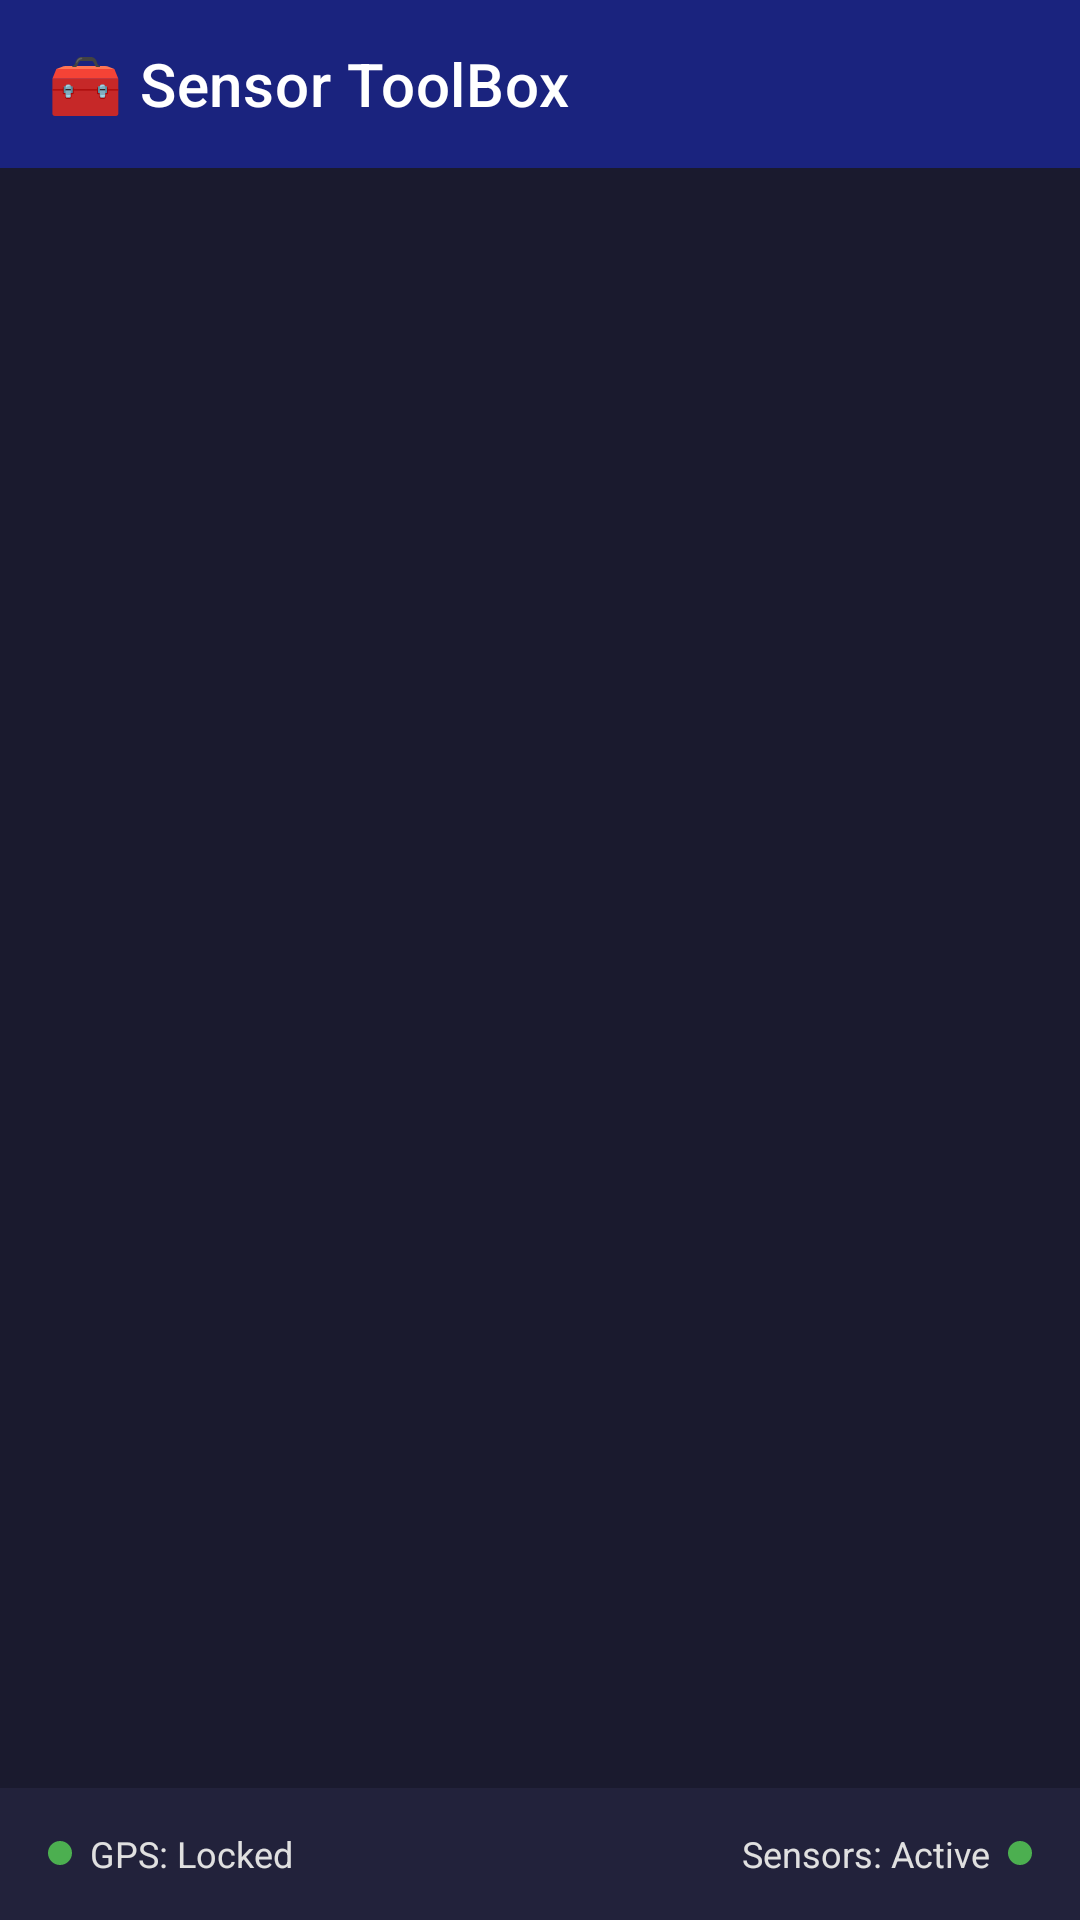

Locate icon controls on the screen. Image size 1080 x 1920, boxes as (x1, y1, x2, y2).
status dot: (48, 1841, 72, 1865), (1008, 1841, 1032, 1865)
